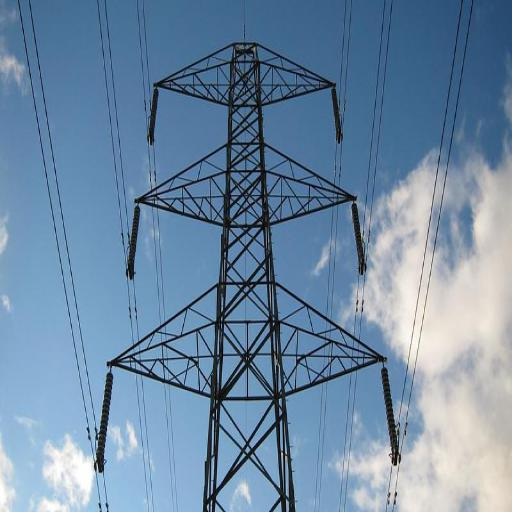ss_3: (106, 26, 404, 511)
